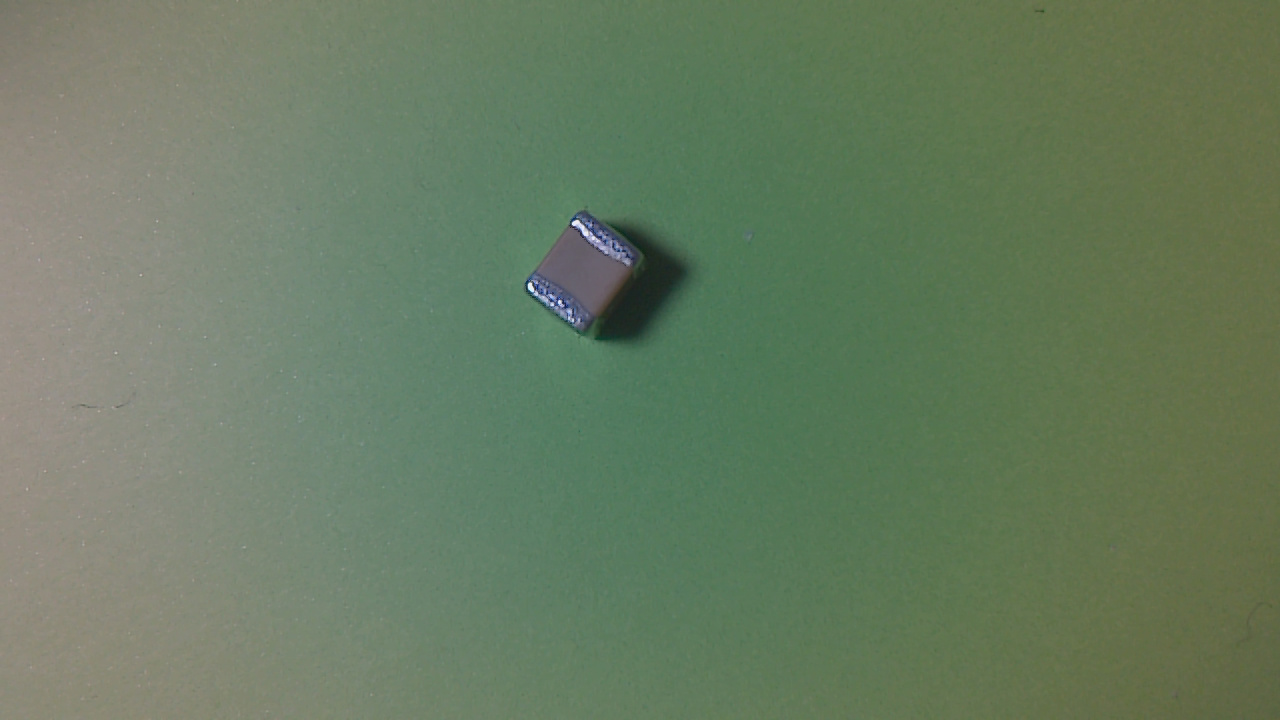Condensator: (526, 210, 656, 349)
